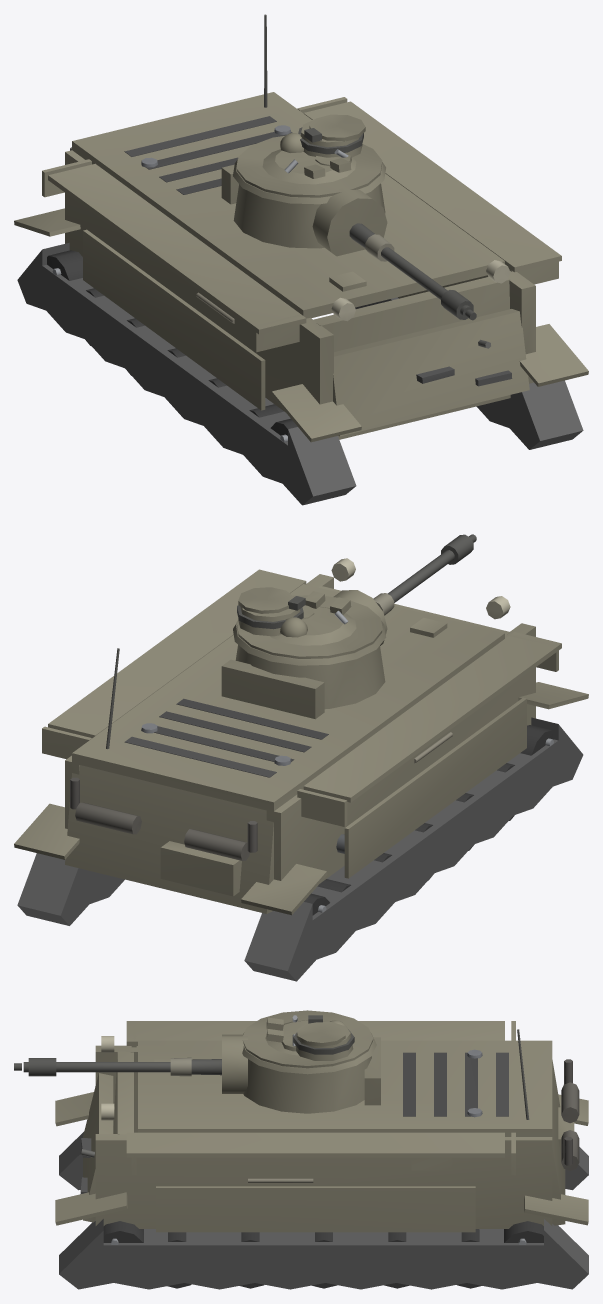
Rendered from matilda.glb.
The picture shows the model from 3 angles, top to bottom: view 1: azimuth 30°, elevation 25°; view 2: azimuth 150°, elevation 25°; view 3: azimuth 270°, elevation 25°; orthographic projection. The views are drawn at different scales.
Visible parts, largest first — view 1: hullSide, hullTop, tracks, lowerPlate, turretRoof, glacis, turretFront, mantlet, barrel, turretSide, wheel6; view 2: hullSide, hullTop, tracks, hullRear, turretRoof, turretRear, turretFront, barrel, turretSide, glacis, wheel5, mantlet; view 3: hullSide, tracks, hullTop, turretRoof, turretFront, hullRear, barrel, glacis, lowerPlate, mantlet, turretSide, turretRear (+2 smaller).
Boxes of the visible parts, <box> form: hullSide: <box>42,97,561,412</box>; hullTop: <box>72,92,504,318</box>; tracks: <box>14,208,588,505</box>; lowerPlate: <box>333,309,529,436</box>; turretRoof: <box>236,114,382,197</box>; glacis: <box>313,271,512,439</box>; turretFront: <box>233,183,385,248</box>; mantlet: <box>312,187,387,256</box>; barrel: <box>349,223,476,320</box>; turretSide: <box>233,159,385,204</box>; wheel6: <box>47,250,82,280</box>; hullSide: <box>42,558,561,883</box>; hullTop: <box>72,584,504,811</box>; tracks: <box>14,682,588,981</box>; hullRear: <box>65,648,273,913</box>; turretRoof: <box>236,587,382,658</box>; turretRear: <box>221,659,324,719</box>; turretFront: <box>235,645,385,709</box>; barrel: <box>373,534,476,615</box>; turretSide: <box>233,620,386,665</box>; glacis: <box>319,586,510,637</box>; wheel5: <box>520,725,553,755</box>; mantlet: <box>333,590,387,645</box>; hullSide: <box>95,1021,552,1232</box>; tracks: <box>55,1092,588,1289</box>; hullTop: <box>138,1040,552,1136</box>; turretRoof: <box>242,1010,373,1068</box>; turretFront: <box>243,1056,371,1113</box>; hullRear: <box>517,1029,579,1225</box>; barrel: <box>14,1057,221,1076</box>; glacis: <box>80,1051,173,1194</box>; lowerPlate: <box>83,1073,113,1222</box>; mantlet: <box>222,1034,247,1093</box>; turretSide: <box>242,1033,376,1074</box>; turretRear: <box>364,1037,380,1105</box>.
Size of the model in its own units: 3.84 by 3.18 by 7.05.
